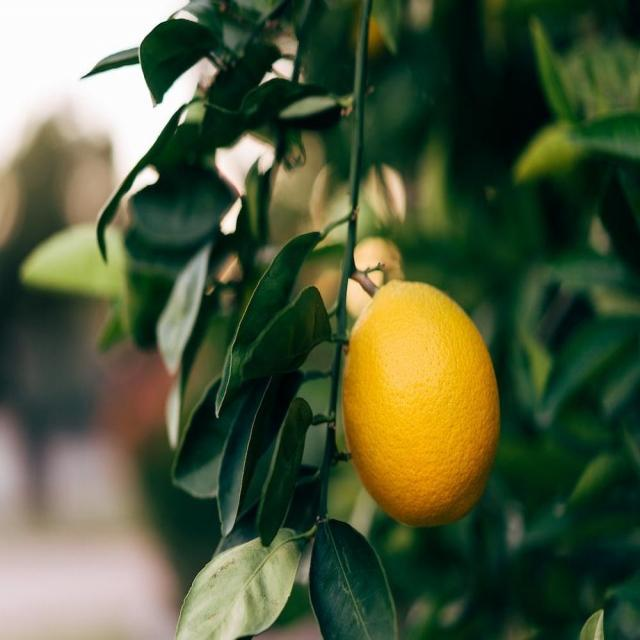Jeruk Sudah Matang: (347, 276, 502, 528)
